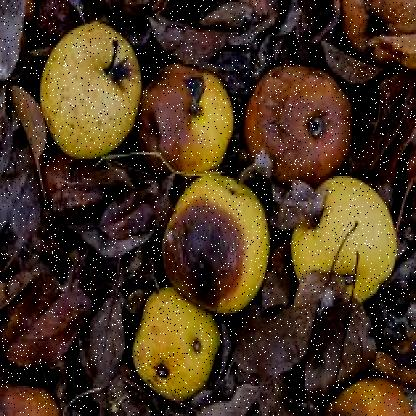damaged_apple: (160, 171, 272, 320), (286, 176, 398, 304), (42, 23, 142, 160), (240, 58, 349, 180), (128, 281, 230, 399), (138, 53, 233, 172), (315, 369, 411, 409)
